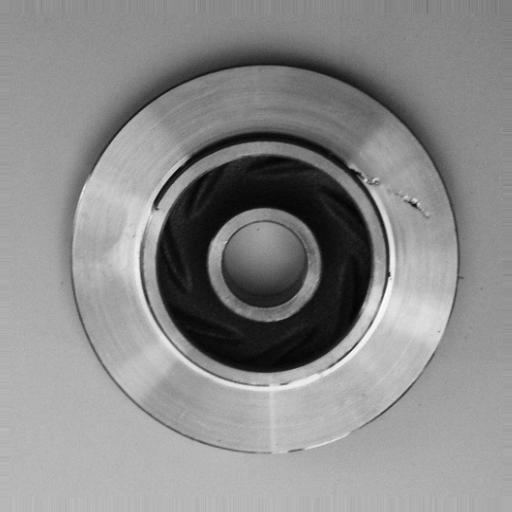crack: (348, 152, 434, 223)
scratch: (134, 192, 168, 300), (257, 361, 342, 398)
unpolished_casting: (70, 61, 461, 459)
